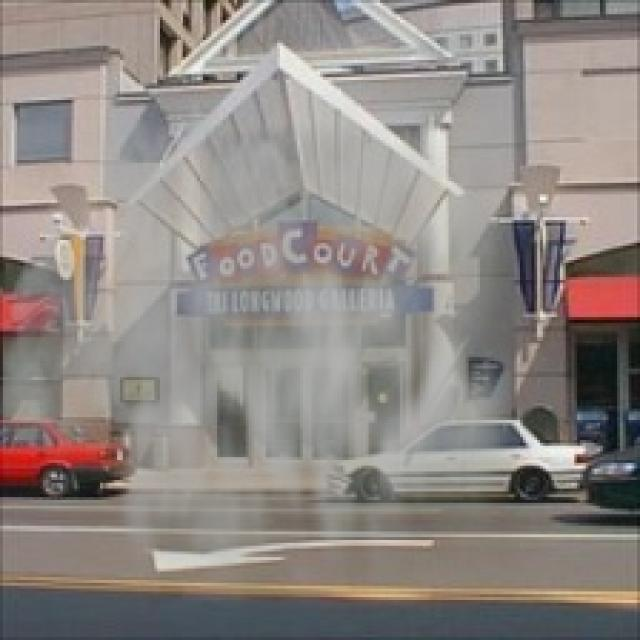Smoke: (2, 37, 552, 603)
